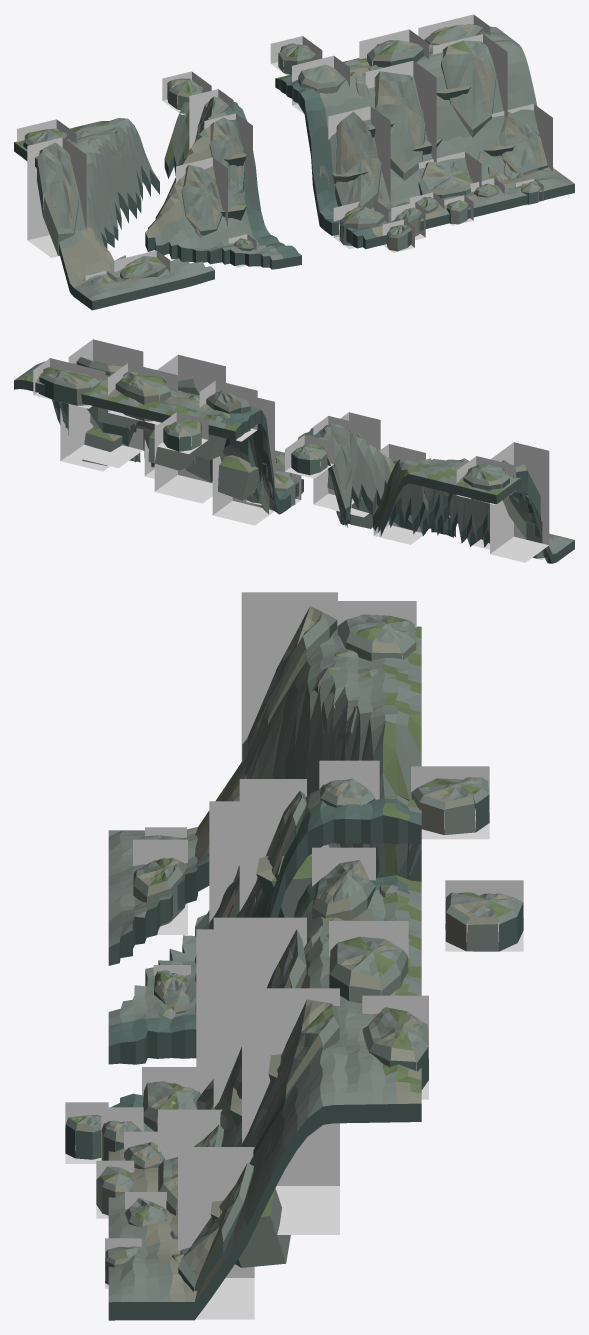
Rendered from silverveil-gorge.glb.
3 views of the same model, one above another, from view 1: azimuth 30°, elevation 25°; view 2: azimuth 150°, elevation 25°; view 3: azimuth 270°, elevation 25° (orthographic). The views are drawn at different scales.
Visible parts, largest first — view 1: GEO_Silverveil_stone, GEO_Silverveil_warm, GEO_Silverveil_shadow, GEO_Silverveil_wet, COL_West_Outer, GEO_Silverveil_moss, COL_East_Fault, COL_East_Buttress, COL_East_Tower, COL_East_Taper, COL_West_Prow, COL_West_Fault (+10 smaller); view 2: GEO_Silverveil_stone, GEO_Silverveil_shadow, COL_West_Outer, COL_East_Tower, GEO_Silverveil_moss, COL_East_Fault, GEO_Silverveil_warm, GEO_Silverveil_wet, COL_East_Buttress, COL_West_Fault, COL_West_Crown, COL_East_Crown (+7 smaller); view 3: GEO_Silverveil_stone, GEO_Silverveil_warm, GEO_Silverveil_shadow, COL_East_Tower, GEO_Silverveil_moss, COL_East_Fault, COL_East_Taper, COL_West_Outer, GEO_Silverveil_wet, COL_West_Prow, COL_West_Fault, COL_East_Buttress (+10 smaller).
Boxes of the visible parts, <box> form: GEO_Silverveil_stone: <box>21,24,574,301</box>; GEO_Silverveil_warm: <box>24,24,558,287</box>; GEO_Silverveil_shadow: <box>14,47,574,310</box>; GEO_Silverveil_wet: <box>37,34,541,278</box>; COL_West_Outer: <box>27,137,86,257</box>; GEO_Silverveil_moss: <box>14,24,538,283</box>; COL_East_Fault: <box>365,60,436,162</box>; COL_East_Buttress: <box>328,106,390,202</box>; COL_East_Tower: <box>433,34,507,118</box>; COL_East_Taper: <box>491,104,552,170</box>; COL_West_Prow: <box>204,113,252,210</box>; COL_West_Fault: <box>176,157,227,226</box>; GEO_Silverveil_stone: <box>21,357,574,558</box>; GEO_Silverveil_shadow: <box>14,377,574,563</box>; COL_West_Outer: <box>490,442,549,562</box>; COL_East_Tower: <box>68,339,143,468</box>; GEO_Silverveil_moss: <box>20,361,502,520</box>; COL_East_Fault: <box>154,354,225,503</box>; GEO_Silverveil_warm: <box>14,362,555,557</box>; GEO_Silverveil_wet: <box>53,375,540,515</box>; COL_East_Buttress: <box>212,397,274,525</box>; COL_West_Fault: <box>373,444,425,544</box>; COL_West_Crown: <box>313,416,357,510</box>; COL_East_Crown: <box>199,380,257,441</box>; GEO_Silverveil_stone: <box>66,607,522,1302</box>; GEO_Silverveil_warm: <box>75,606,514,1301</box>; GEO_Silverveil_shadow: <box>65,620,523,1320</box>; COL_East_Tower: <box>242,988,339,1234</box>; GEO_Silverveil_moss: <box>69,616,512,1259</box>; COL_East_Fault: <box>213,917,306,1109</box>; COL_East_Taper: <box>178,1147,254,1319</box>; COL_West_Outer: <box>241,592,337,761</box>; GEO_Silverveil_wet: <box>92,641,475,1253</box>; COL_West_Prow: <box>239,779,306,911</box>; COL_West_Fault: <box>209,801,239,923</box>; COL_East_Buttress: <box>196,929,213,1093</box>.
Size of the model in its own units: 185 by 52.22 by 75.08.
